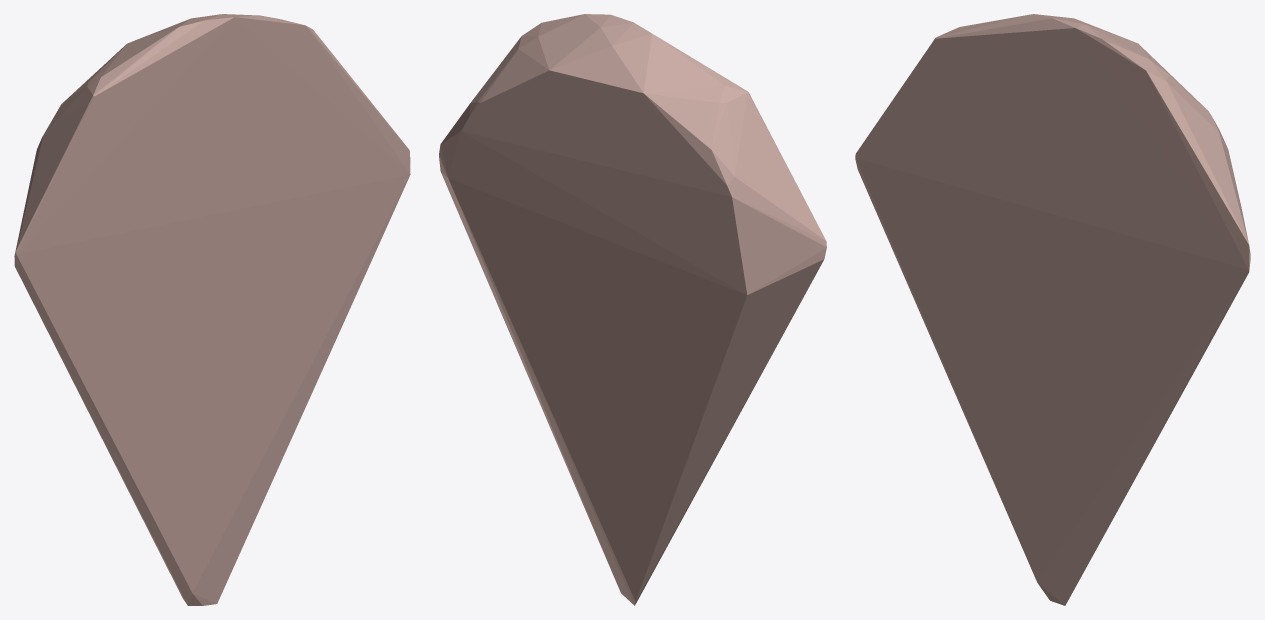
Rendered from kitchenware_pan_m01.glb.
3 renders of one model, left to right at view 1: azimuth 30°, elevation 25°; view 2: azimuth 150°, elevation 25°; view 3: azimuth 330°, elevation 25°, orthographic. The views are drawn at different scales.
Parts seen in each view (by area): view 1: geometry_0; view 2: geometry_0; view 3: geometry_0.
Part boxes in pixels (x1=…): geometry_0: x1=14, y1=14, x2=410, y2=605; geometry_0: x1=439, y1=14, x2=826, y2=605; geometry_0: x1=855, y1=14, x2=1250, y2=605.
Bounding box in the file's own units: 0.3353 × 0.4762 × 0.056.
